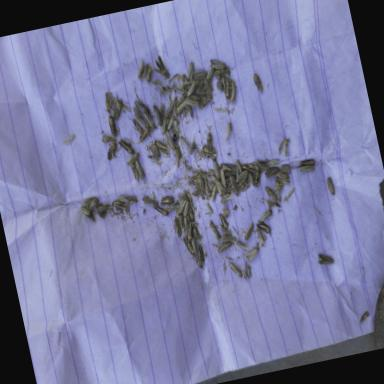pbw: (156, 54, 170, 80), (132, 105, 146, 129), (110, 98, 126, 119), (101, 90, 116, 112), (138, 194, 158, 210), (194, 244, 206, 270), (255, 218, 272, 236), (233, 169, 250, 186), (163, 129, 175, 153), (207, 219, 220, 241), (142, 108, 155, 130), (80, 204, 94, 224), (104, 141, 118, 161), (152, 104, 164, 127), (135, 128, 152, 144), (316, 250, 333, 266), (134, 60, 147, 80), (244, 246, 260, 262), (228, 262, 243, 279), (171, 216, 182, 239), (264, 185, 278, 203), (182, 236, 194, 257), (129, 160, 140, 182), (142, 63, 154, 83), (232, 158, 244, 178), (133, 98, 149, 113), (134, 160, 146, 180), (153, 204, 170, 218), (209, 57, 226, 71), (183, 63, 196, 81), (262, 166, 280, 179), (243, 222, 256, 240), (325, 175, 336, 196), (214, 176, 226, 195), (124, 152, 140, 166), (220, 162, 236, 176), (258, 208, 274, 222), (83, 196, 100, 209), (107, 114, 117, 136), (190, 220, 200, 242), (216, 242, 234, 254), (252, 74, 264, 92), (182, 96, 200, 108), (131, 118, 143, 136), (297, 162, 315, 174), (294, 158, 315, 168), (154, 138, 169, 152), (172, 147, 182, 168), (201, 144, 218, 156), (180, 201, 192, 218), (212, 158, 222, 178), (222, 82, 232, 102), (204, 132, 214, 152), (256, 227, 266, 247), (184, 82, 197, 97), (160, 194, 176, 206), (240, 162, 256, 174), (274, 170, 290, 182), (96, 200, 112, 212), (208, 184, 219, 201), (227, 85, 238, 102), (234, 239, 248, 252), (240, 261, 250, 279), (170, 120, 180, 138), (180, 134, 191, 150), (189, 234, 197, 256), (164, 201, 180, 212), (222, 123, 233, 139), (229, 175, 238, 194), (184, 224, 194, 241), (220, 234, 237, 244), (171, 84, 184, 97), (204, 68, 216, 82), (214, 66, 230, 76), (264, 158, 280, 168), (218, 212, 228, 228), (174, 101, 186, 114), (195, 80, 206, 94), (191, 189, 205, 200), (200, 170, 211, 184), (177, 214, 185, 232), (239, 180, 251, 192), (198, 176, 206, 194), (186, 202, 194, 220), (163, 102, 175, 114), (219, 193, 232, 204), (158, 146, 168, 160), (255, 158, 266, 170), (202, 95, 213, 107), (277, 176, 289, 187), (252, 170, 262, 183), (220, 74, 228, 90), (150, 144, 158, 160), (219, 168, 226, 186), (111, 198, 125, 207), (101, 135, 115, 144), (280, 164, 295, 172), (165, 116, 175, 128), (205, 201, 214, 214), (246, 173, 254, 185), (126, 195, 138, 203), (224, 182, 232, 192)
